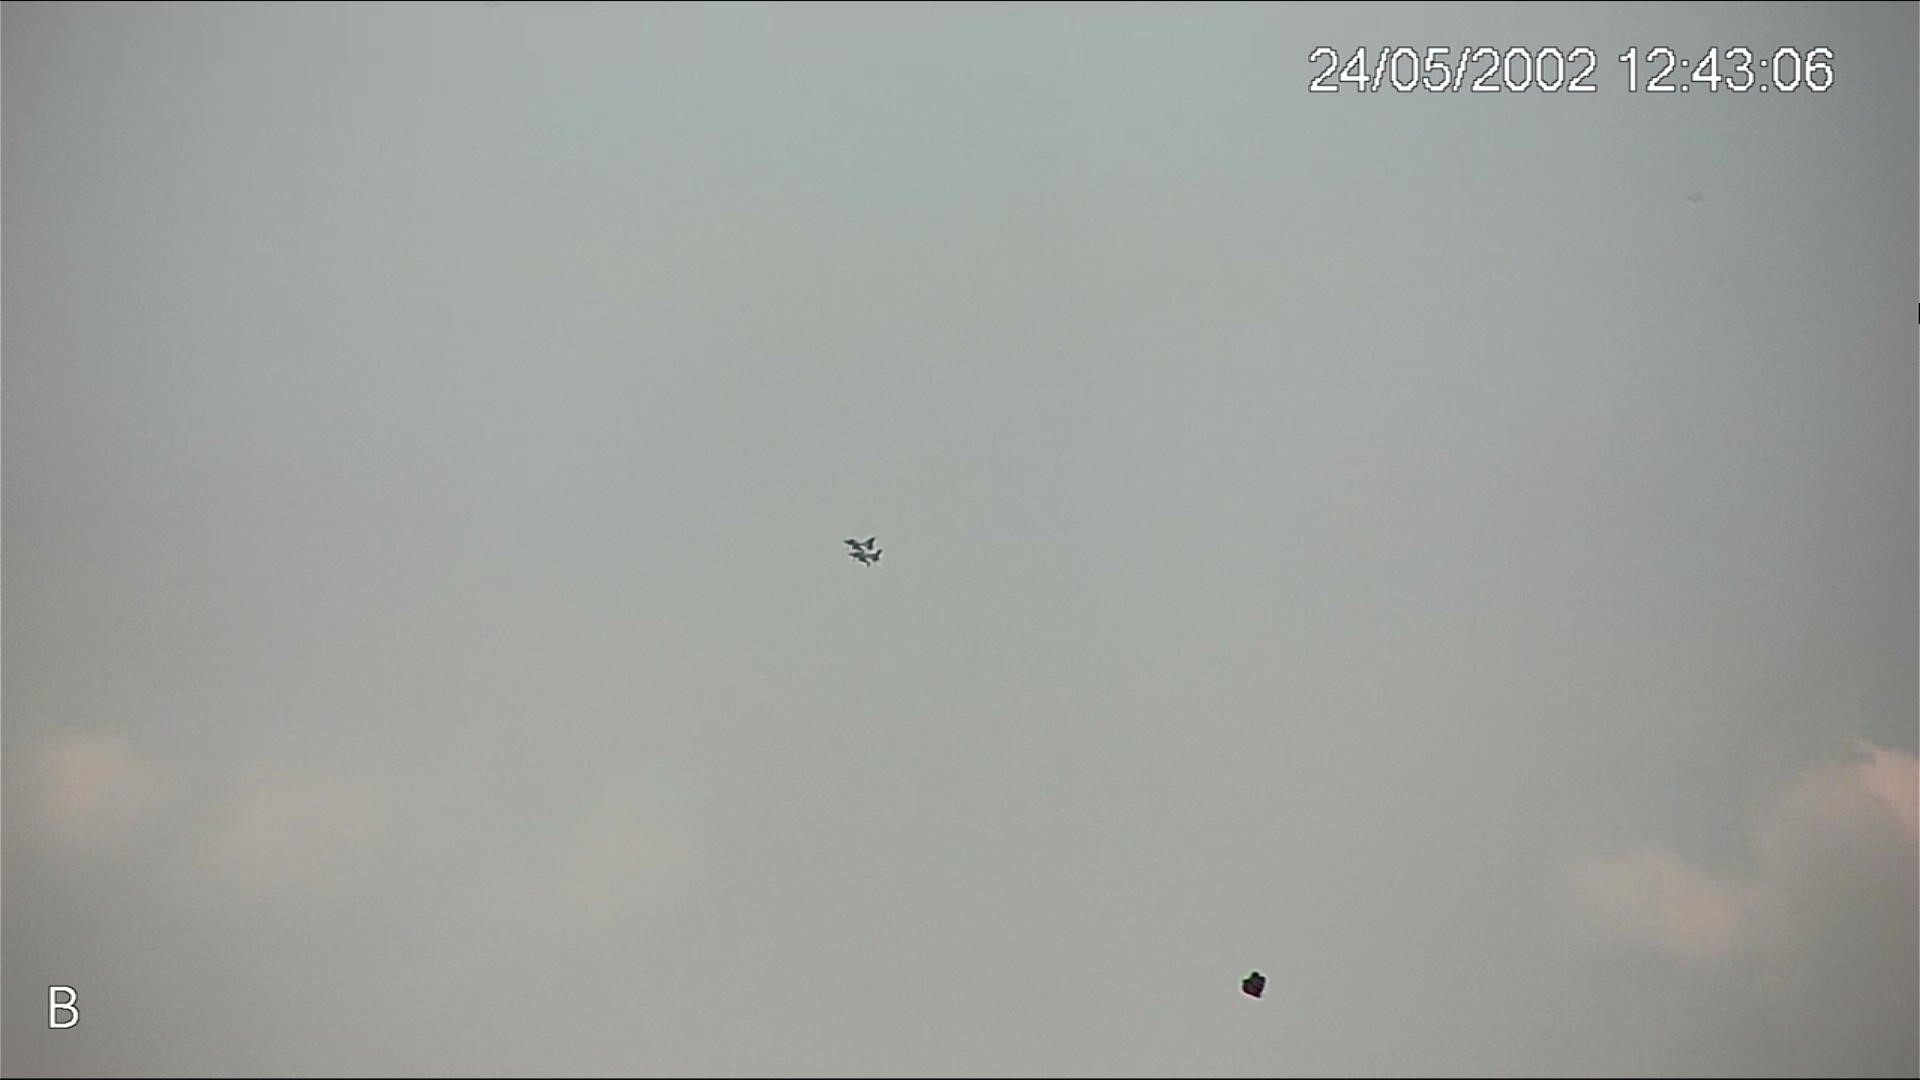SU_30: (847, 549, 882, 567), (843, 535, 876, 550)
